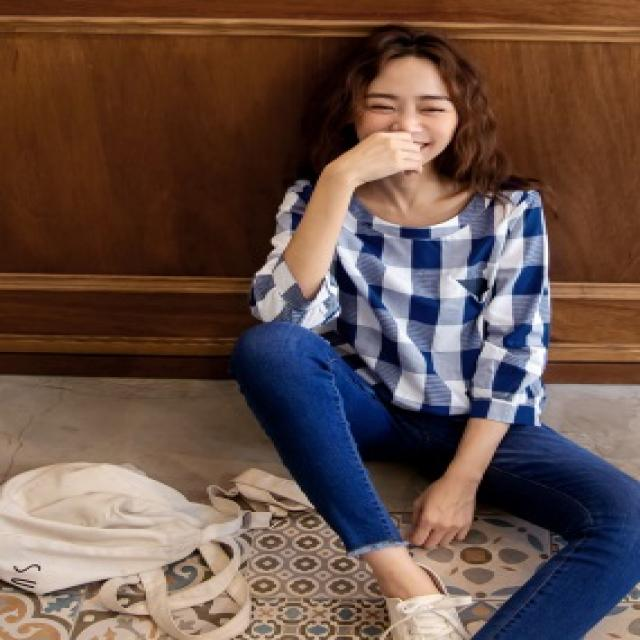plaid: (271, 169, 558, 429)
